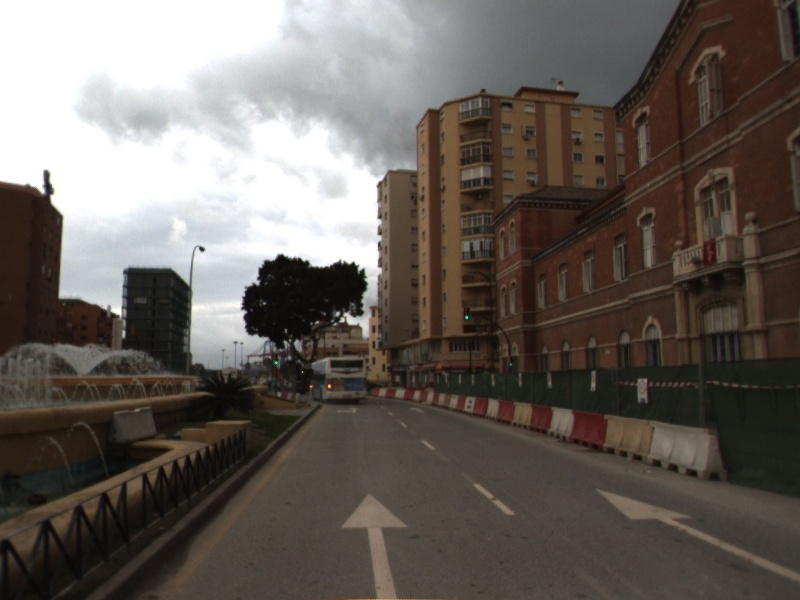STRAIGHT: (592, 485, 800, 583), (338, 489, 410, 600)
